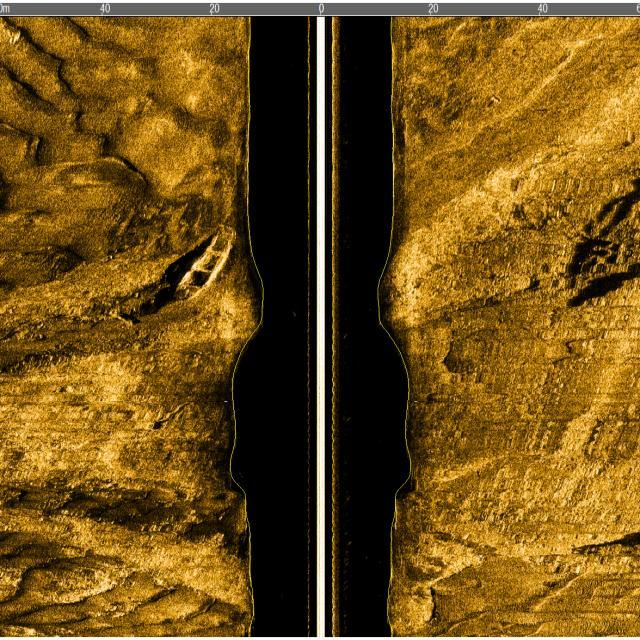shipwreck: (176, 222, 237, 303)
